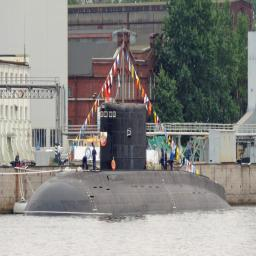submarine: (24, 103, 236, 214)
